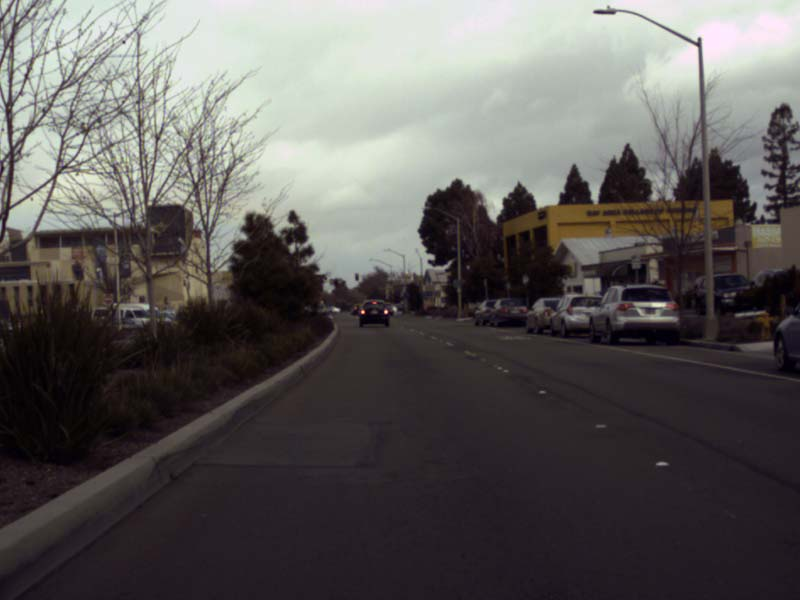Red: (390, 289, 394, 299), (354, 273, 358, 280)
